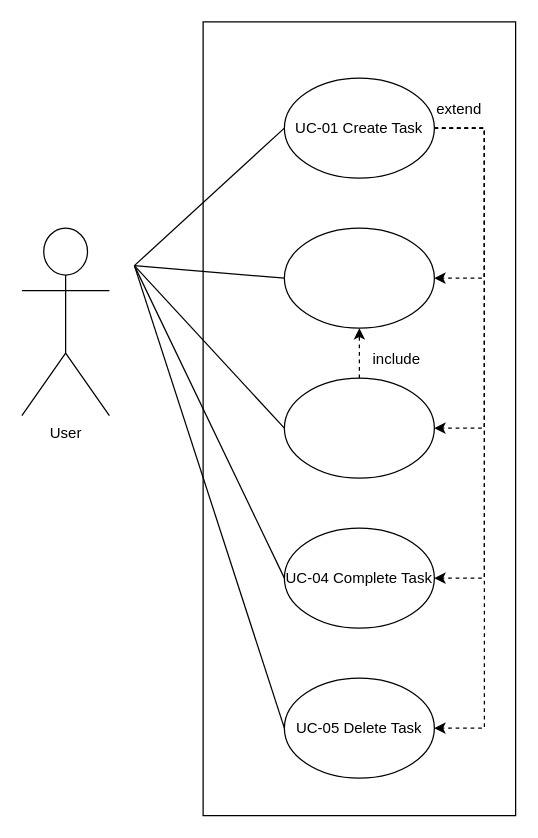
The diagram is 538 pixels wide and 838 high, and some of its shapes have lost their labels. Here are the shapes that lost their labels. From the top down, the box of each, then its label:
(283, 227, 434, 328): UC-02 List Task(s)
(283, 377, 434, 478): UC-03 Filter Tasks
